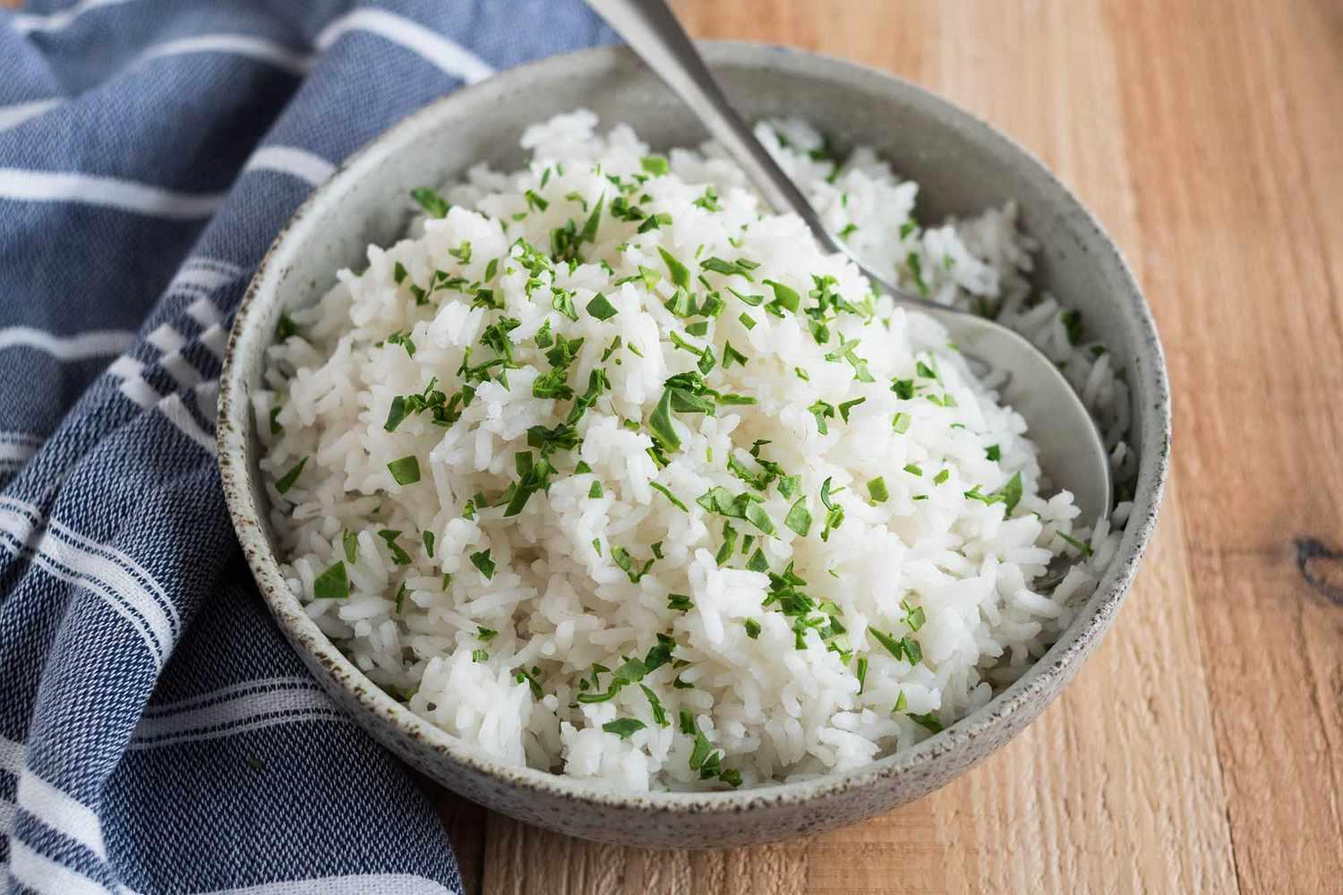rice: (261, 116, 1111, 790)
